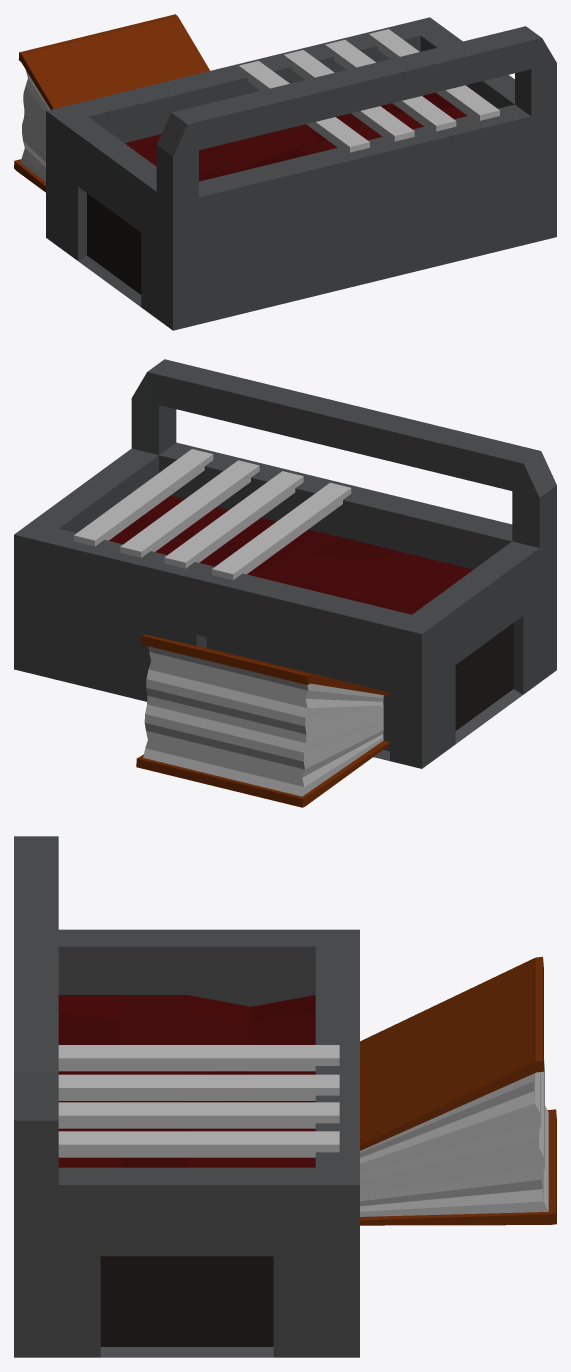
File: furnance.fbx
3 views of the same model, one above another, from view 1: azimuth 30°, elevation 25°; view 2: azimuth 150°, elevation 25°; view 3: azimuth 270°, elevation 25° (orthographic). The views are drawn at different scales.
Parts seen in each view (by area): view 1: furnance, Cube.008; view 2: furnance, Cube.008; view 3: furnance, Cube.008.
Part boxes in pixels (x1=…): furnance: x1=14, y1=14, x2=556, y2=330; Cube.008: x1=238, y1=29, x2=499, y2=152; furnance: x1=14, y1=359, x2=556, y2=807; Cube.008: x1=73, y1=449, x2=351, y2=579; furnance: x1=14, y1=836, x2=556, y2=1357; Cube.008: x1=58, y1=1045, x2=339, y2=1157.
Size of the model in its own units: 349 by 176 by 314.
Materials: 1 (1 with a texture image).
